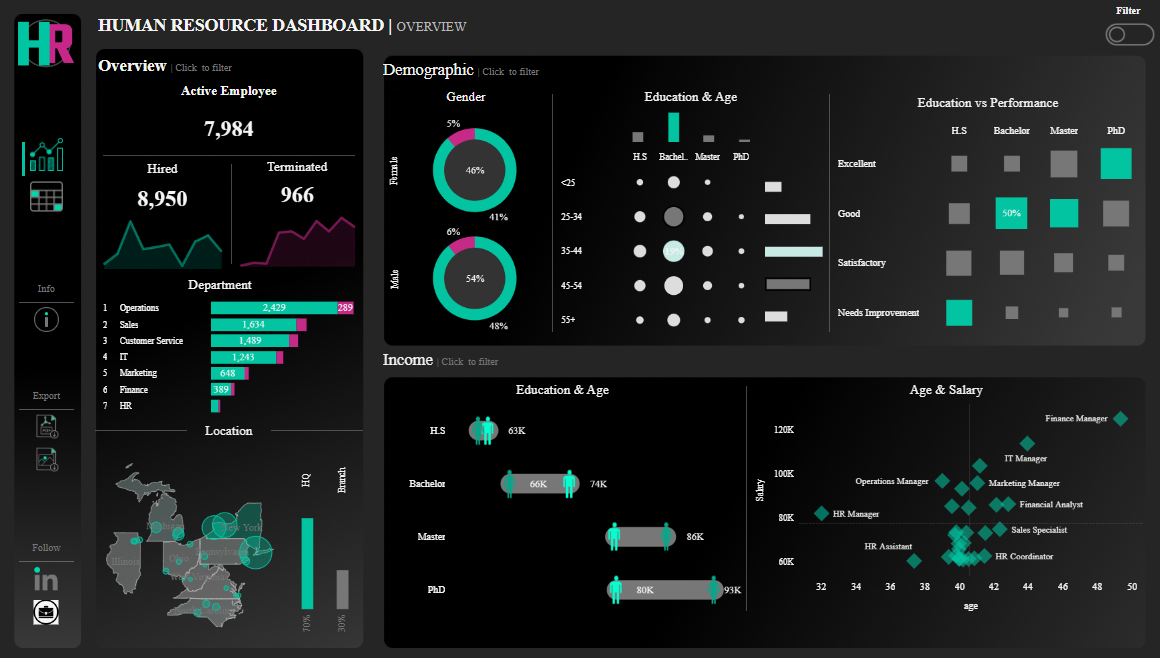

Layout of this report page (visuals, bound fields, positions):
{"tool":"tableau","page":{"name":"HR dashboard_main","canvas":[1400,800],"ordinal":1},"visuals":[{"type":"image","param":"Image/Frame 1.png","box":[0,0,1400,800]},{"type":"blank","box":[98,0,1300,82]},{"type":"text","box":[116,0,1284,65]},{"type":"filter","title":"barball_chart_averageslry","param":"[federated.160fmea0lxe6sd1778bt71t6e66d].[none:Gender:nk]","box":[763,4,140,60]},{"type":"filter","title":"barball_chart_averageslry","param":"[federated.160fmea0lxe6sd1778bt71t6e66d].[none:State:nk]","box":[903,4,140,60]},{"type":"filter","title":"barball_chart_averageslry","param":"[federated.160fmea0lxe6sd1778bt71t6e66d].[yr:Hiredate:ok]","box":[1043,4,140,60]},{"type":"filter","title":"barball_chart_averageslry","param":"[federated.160fmea0lxe6sd1778bt71t6e66d].[none:Calculation_1203305529925636096:n","box":[1183,4,140,60]},{"type":"text","box":[1322,8,69,16]},{"type":"image","param":"Image/Logo.png","box":[20,20,76,68]},{"type":"dashboard-object","box":[1328,28,60,31]},{"type":"text","box":[116,65,322,32]},{"type":"text","box":[458,65,920,40]},{"type":"text","box":[98,82,1300,625]},{"type":"blank","box":[20,88,76,80]},{"type":"text","box":[116,97,322,31]},{"type":"text","box":[458,105,207,31]},{"type":"blank","box":[665,105,1,306]},{"type":"text","box":[666,105,331,31]},{"type":"blank","box":[997,105,1,306]},{"type":"text","box":[998,105,380,40]},{"type":"worksheet","title":"ban_total_active","mark":"Automatic","box":[116,128,322,64]},{"type":"worksheet","title":"gender","mark":"Pie","rows":["Gender"],"cols":["Calculation_2108529054676189185","Calculation_2108529054676189185"],"box":[458,136,207,275]},{"type":"worksheet","title":"edu_emp","mark":"Bar","rows":["Calculation_717198244550758400"],"cols":["Education Level"],"box":[666,136,331,45]},{"type":"worksheet","title":"edu vs performance","mark":"Square","rows":["Performance Rating"],"cols":["Education Level"],"box":[998,145,380,266]},{"type":"dashboard-object","box":[20,168,76,40]},{"type":"blank","box":[29,173,4,41]},{"type":"worksheet","title":"age vs education","mark":"Circle","rows":["Calculation_2108529054740889604"],"cols":["Education Level"],"box":[666,181,250,230]},{"type":"worksheet","title":"age_bucklet_emp","mark":"Bar","rows":["Calculation_2108529054740889604"],"cols":["Calculation_717198244550758400"],"box":[916,181,81,230]},{"type":"blank","box":[116,192,322,1]},{"type":"text","box":[116,193,163,32]},{"type":"blank","box":[279,193,1,140]},{"type":"text","box":[280,193,157.9,31]},{"type":"blank","box":[20,208,76,10]},{"type":"dashboard-object","box":[20,218,76,40]},{"type":"worksheet","title":"ban_total_terminated","mark":"Automatic","box":[280,224,157.9,39]},{"type":"worksheet","title":"ban_total employee","mark":"Automatic","box":[116,225,163,39]},{"type":"blank","box":[20,258,76,80]},{"type":"worksheet","title":"bar chart_terminated","mark":"Line","rows":["Calculation_717198244551839747","Calculation_717198244551839747"],"cols":["Termdate"],"box":[280,263,157.9,70]},{"type":"worksheet","title":"Bar_chart","mark":"Line","rows":["Calculation_717198244550758400","Calculation_717198244550758400"],"cols":["Hiredate"],"box":[116,264,163,69]},{"type":"blank","box":[116,333,54,31]},{"type":"text","box":[170,333,193,31]},{"type":"blank","box":[363,333,75,31]},{"type":"text","box":[20,338,76,25]},{"type":"blank","box":[20,363,76,11]},{"type":"worksheet","title":"depart_wise_total_emp","mark":"Bar","rows":["Calculation_717198244587532293","Department"],"cols":["Calculation_717198244550758400"],"box":[116,364,322,144]},{"type":"dashboard-object","box":[20,374,76,30]},{"type":"blank","box":[20,404,76,65]},{"type":"text","box":[458,411,920,45]},{"type":"text","box":[458,456,439,31]},{"type":"blank","box":[897,456,1,290]},{"type":"text","box":[898,456,480,31]},{"type":"text","box":[20,469,76,25]},{"type":"worksheet","title":"barball_chart_averageslry","mark":"Line","rows":["Education Level"],"cols":["Salary","Salary"],"box":[458,487,439,259]},{"type":"worksheet","title":"sctr chart","mark":"Shape","rows":["Salary"],"cols":["Calculation_2108529054740054018"],"box":[898,487,480,259]},{"type":"blank","box":[20,494,76,11]},{"type":"dashboard-object","box":[20,505,76,30]},{"type":"blank","box":[116,508,110,32]},{"type":"text","box":[226,508,102,32]},{"type":"blank","box":[328,508,110,32]},{"type":"blank","box":[20,535,76,10]},{"type":"worksheet","title":"map location state","mark":"Multipolygon","box":[116,540,229,238]},{"type":"worksheet","title":"HQ &Branch","mark":"Bar","rows":["Calculation_717198244550758400"],"cols":["Calculation_717198244588859398","Calculation1"],"box":[345,540,93,238]},{"type":"dashboard-object","box":[20,545,76,30]},{"type":"blank","box":[20,575,76,80]},{"type":"text","box":[20,655,76,25]},{"type":"blank","box":[20,680,76,11]},{"type":"image","param":"Image/contact-linkedin.png","box":[20,691,76,30]},{"type":"blank","box":[20,721,76,10]},{"type":"image","param":"Image/portfolio.jpg","box":[20,731,76,30]}]}

Visuals, with their boxes on the page's 1400x800 design canvas (x1, y1, x2, y2). These are canvas units, not pixel positions in the 1160x658 screenshot, which may show the page scaled, cropped or inside an application window:
image: BBox(0, 0, 1400, 800)
blank: BBox(98, 0, 1398, 82)
text: BBox(116, 0, 1400, 65)
"barball_chart_averageslry" filter: BBox(763, 4, 903, 64)
"barball_chart_averageslry" filter: BBox(903, 4, 1043, 64)
"barball_chart_averageslry" filter: BBox(1043, 4, 1183, 64)
"barball_chart_averageslry" filter: BBox(1183, 4, 1323, 64)
text: BBox(1322, 8, 1391, 24)
image: BBox(20, 20, 96, 88)
dashboard-object: BBox(1328, 28, 1388, 59)
text: BBox(116, 65, 438, 97)
text: BBox(458, 65, 1378, 105)
text: BBox(98, 82, 1398, 707)
blank: BBox(20, 88, 96, 168)
text: BBox(116, 97, 438, 128)
text: BBox(458, 105, 665, 136)
blank: BBox(665, 105, 666, 411)
text: BBox(666, 105, 997, 136)
blank: BBox(997, 105, 998, 411)
text: BBox(998, 105, 1378, 145)
"ban_total_active" worksheet: BBox(116, 128, 438, 192)
"gender" worksheet (Pie marks): BBox(458, 136, 665, 411)
"edu_emp" worksheet (Bar marks): BBox(666, 136, 997, 181)
"edu vs performance" worksheet (Square marks): BBox(998, 145, 1378, 411)
dashboard-object: BBox(20, 168, 96, 208)
blank: BBox(29, 173, 33, 214)
"age vs education" worksheet (Circle marks): BBox(666, 181, 916, 411)
"age_bucklet_emp" worksheet (Bar marks): BBox(916, 181, 997, 411)
blank: BBox(116, 192, 438, 193)
text: BBox(116, 193, 279, 225)
blank: BBox(279, 193, 280, 333)
text: BBox(280, 193, 438, 224)
blank: BBox(20, 208, 96, 218)
dashboard-object: BBox(20, 218, 96, 258)
"ban_total_terminated" worksheet: BBox(280, 224, 438, 263)
"ban_total employee" worksheet: BBox(116, 225, 279, 264)
blank: BBox(20, 258, 96, 338)
"bar chart_terminated" worksheet (Line marks): BBox(280, 263, 438, 333)
"Bar_chart" worksheet (Line marks): BBox(116, 264, 279, 333)
blank: BBox(116, 333, 170, 364)
text: BBox(170, 333, 363, 364)
blank: BBox(363, 333, 438, 364)
text: BBox(20, 338, 96, 363)
blank: BBox(20, 363, 96, 374)
"depart_wise_total_emp" worksheet (Bar marks): BBox(116, 364, 438, 508)
dashboard-object: BBox(20, 374, 96, 404)
blank: BBox(20, 404, 96, 469)
text: BBox(458, 411, 1378, 456)
text: BBox(458, 456, 897, 487)
blank: BBox(897, 456, 898, 746)
text: BBox(898, 456, 1378, 487)
text: BBox(20, 469, 96, 494)
"barball_chart_averageslry" worksheet (Line marks): BBox(458, 487, 897, 746)
"sctr chart" worksheet (Shape marks): BBox(898, 487, 1378, 746)
blank: BBox(20, 494, 96, 505)
dashboard-object: BBox(20, 505, 96, 535)
blank: BBox(116, 508, 226, 540)
text: BBox(226, 508, 328, 540)
blank: BBox(328, 508, 438, 540)
blank: BBox(20, 535, 96, 545)
"map location state" worksheet (Multipolygon marks): BBox(116, 540, 345, 778)
"HQ &Branch" worksheet (Bar marks): BBox(345, 540, 438, 778)
dashboard-object: BBox(20, 545, 96, 575)
blank: BBox(20, 575, 96, 655)
text: BBox(20, 655, 96, 680)
blank: BBox(20, 680, 96, 691)
image: BBox(20, 691, 96, 721)
blank: BBox(20, 721, 96, 731)
image: BBox(20, 731, 96, 761)
